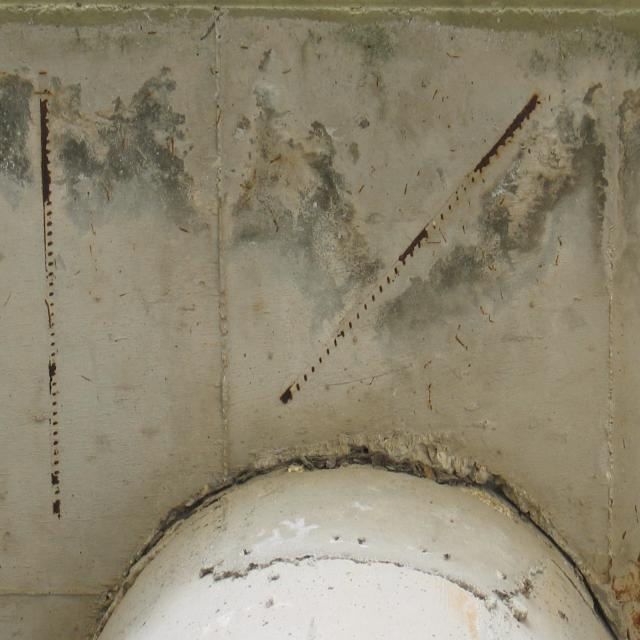corrosion: (206, 39, 628, 414), (89, 85, 208, 358), (38, 64, 81, 526), (588, 528, 640, 640)
